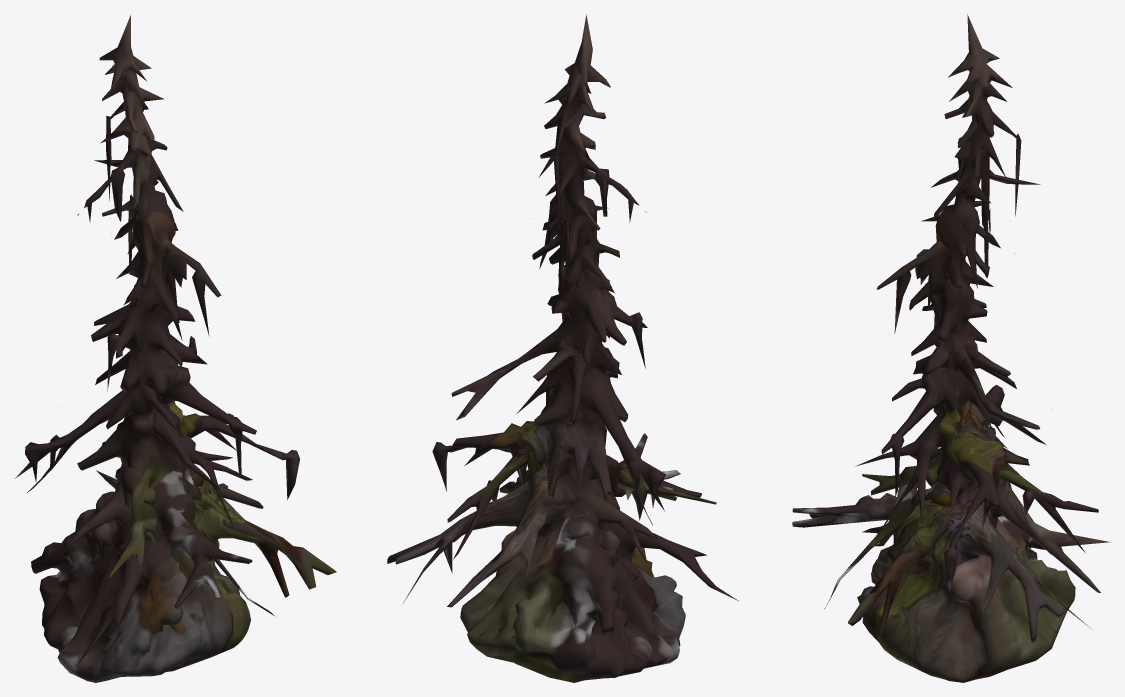
Rendered from tree_pine_c.fbx.
3 views of the same model, side by side, from view 1: azimuth 30°, elevation 25°; view 2: azimuth 150°, elevation 25°; view 3: azimuth 270°, elevation 25° (orthographic). The views are drawn at different scales.
Parts seen in each view (by area): view 1: Group14030; view 2: Group14030; view 3: Group14030.
Part boxes in pixels (<box>): Group14030: <box>15,15,336,682</box>; Group14030: <box>387,14,738,682</box>; Group14030: <box>792,14,1110,682</box>.
Bounding box in the file's own units: 577 × 1228 × 554.
